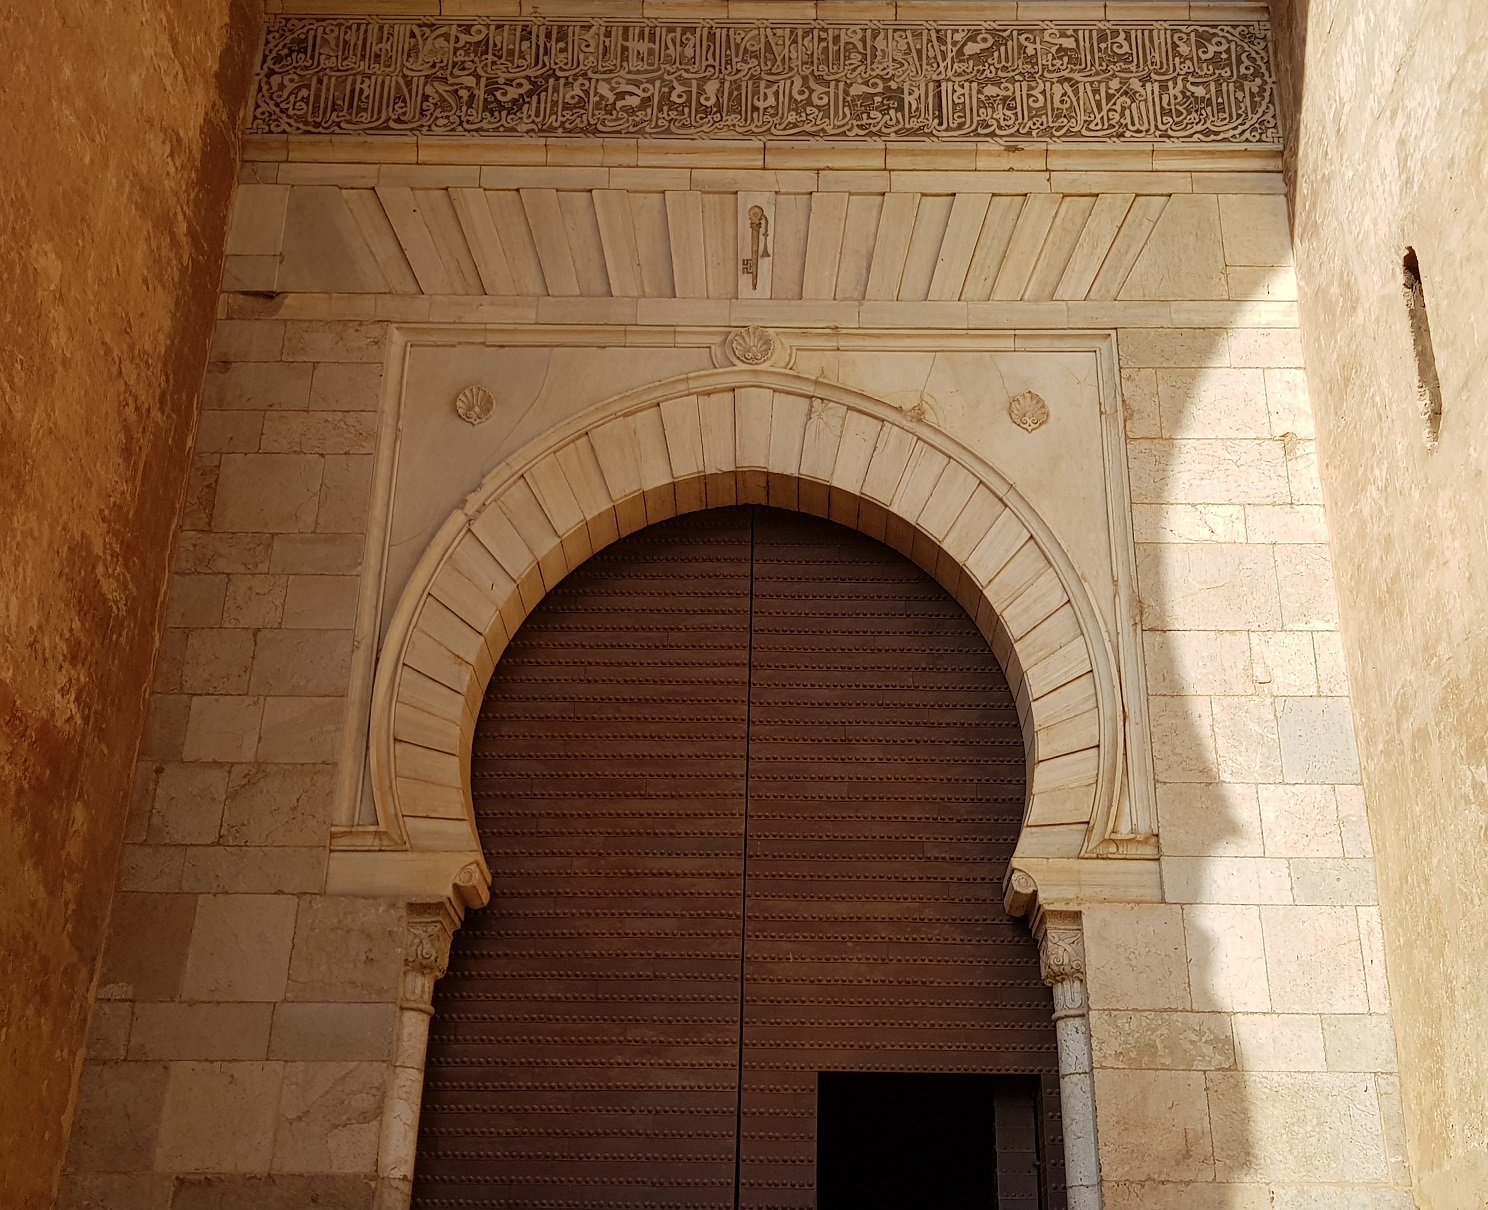arco-herradura: (403, 440, 1076, 982)
dintel-adovelado: (331, 183, 1181, 302)
